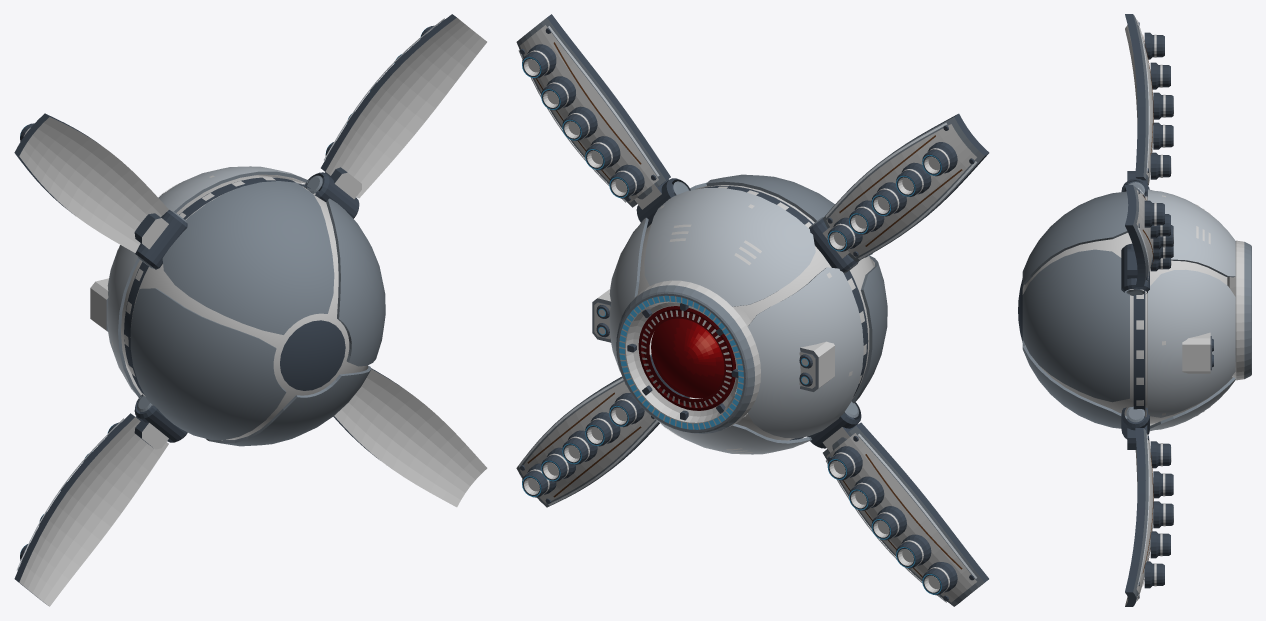
The model's file is rf_drone.obj.
3 views of the same model, side by side, from view 1: azimuth 30°, elevation 25°; view 2: azimuth 150°, elevation 25°; view 3: azimuth 270°, elevation 25° (orthographic). The views are drawn at different scales.
Parts seen in each view (by area): view 1: rear_armor_petal_1, rear_armor_petal_2, wing_0_armored_frame, wing_2_armored_frame, wing_1_armored_frame, wing_3_armored_frame, rear_armor_petal_0, graphite_inner_sphere, rear_armor_petal_3, rear_service_cap, front_armor_petal_2, front_armor_petal_1 (+5 smaller); view 2: front_armor_petal_1, front_armor_petal_2, recessed_red_optic, wing_2_armored_frame, wing_0_armored_frame, wing_1_armored_frame, optic_housing, wing_3_armored_frame, wing_0_emitter_bank, wing_2_emitter_bank, wing_1_emitter_bank, wing_3_emitter_bank (+12 smaller); view 3: rear_armor_petal_0, front_armor_petal_0, rear_armor_petal_1, front_armor_petal_1, graphite_inner_sphere, wing_3_armored_frame, wing_1_armored_frame, wing_3_emitter_bank, wing_1_emitter_bank, optic_housing, rear_armor_petal_3, wing_0_armored_frame (+7 smaller).
Boxes of the visible parts, x1,y1,x2,y2 form: rear_armor_petal_1: [162, 181, 334, 334]; rear_armor_petal_2: [130, 288, 286, 439]; wing_0_armored_frame: [321, 14, 486, 198]; wing_2_armored_frame: [14, 413, 168, 606]; wing_1_armored_frame: [14, 113, 168, 252]; wing_3_armored_frame: [333, 368, 487, 507]; rear_armor_petal_0: [326, 198, 385, 366]; graphite_inner_sphere: [121, 175, 366, 439]; rear_armor_petal_3: [206, 365, 371, 446]; rear_service_cap: [280, 320, 345, 390]; front_armor_petal_2: [107, 245, 142, 398]; front_armor_petal_1: [158, 166, 308, 212]; front_armor_petal_1: [644, 188, 815, 306]; front_armor_petal_2: [748, 267, 863, 438]; recessed_red_optic: [626, 302, 738, 421]; wing_2_armored_frame: [823, 422, 988, 606]; wing_0_armored_frame: [516, 14, 670, 207]; wing_1_armored_frame: [822, 113, 989, 261]; optic_housing: [616, 280, 760, 433]; wing_3_armored_frame: [516, 376, 659, 507]; wing_0_emitter_bank: [522, 44, 644, 198]; wing_2_emitter_bank: [827, 446, 957, 595]; wing_1_emitter_bank: [827, 142, 957, 251]; wing_3_emitter_bank: [522, 393, 644, 497]; rear_armor_petal_0: [1022, 249, 1129, 402]; front_armor_petal_0: [1147, 269, 1235, 417]; rear_armor_petal_1: [1022, 191, 1128, 284]; front_armor_petal_1: [1147, 189, 1235, 277]; graphite_inner_sphere: [1022, 196, 1227, 423]; wing_3_armored_frame: [1125, 428, 1153, 606]; wing_1_armored_frame: [1125, 14, 1153, 185]; wing_3_emitter_bank: [1144, 441, 1173, 588]; wing_1_emitter_bank: [1144, 32, 1173, 179]; optic_housing: [1229, 240, 1251, 380]; rear_armor_petal_3: [1022, 340, 1127, 428]; wing_0_armored_frame: [1125, 185, 1153, 286].
Size of the model in its own units: 0.7734 by 0.7734 by 0.3888.
